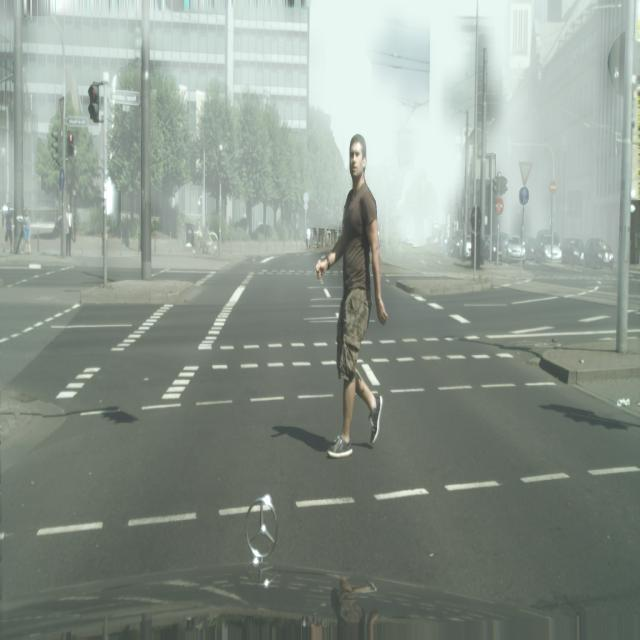car: (186, 217, 219, 258)
person: (315, 134, 388, 459), (65, 204, 73, 257), (23, 208, 31, 254)
truck: (583, 238, 614, 270), (534, 231, 562, 264), (560, 237, 585, 266), (505, 234, 525, 264), (524, 238, 538, 262)
